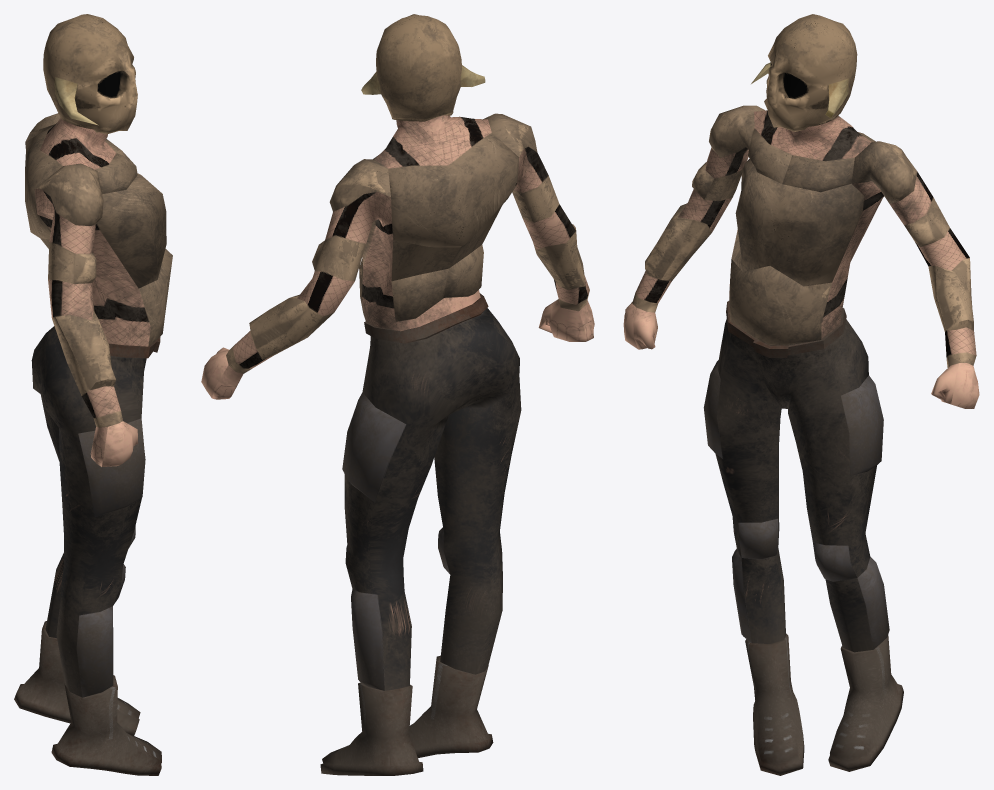
File: Anim_ataque_f1_npc1.0034.obj
3 renders of one model, left to right at view 1: azimuth 30°, elevation 25°; view 2: azimuth 150°, elevation 25°; view 3: azimuth 270°, elevation 25°, orthographic. The views are drawn at different scales.
Parts seen in each view (by area): view 1: NPC2; view 2: NPC2; view 3: NPC2.
Part boxes in pixels (box(x1,y1,x2,y2)): NPC2: box(14, 14, 172, 775); NPC2: box(201, 14, 594, 775); NPC2: box(623, 14, 979, 775).
Bounding box in the file's own units: 3.16 × 9.95 × 4.39.
